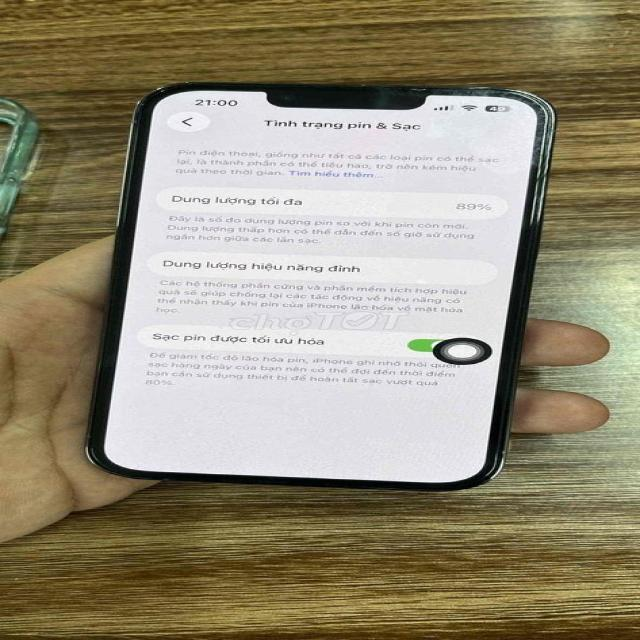gen_12_13: (73, 78, 588, 518)
